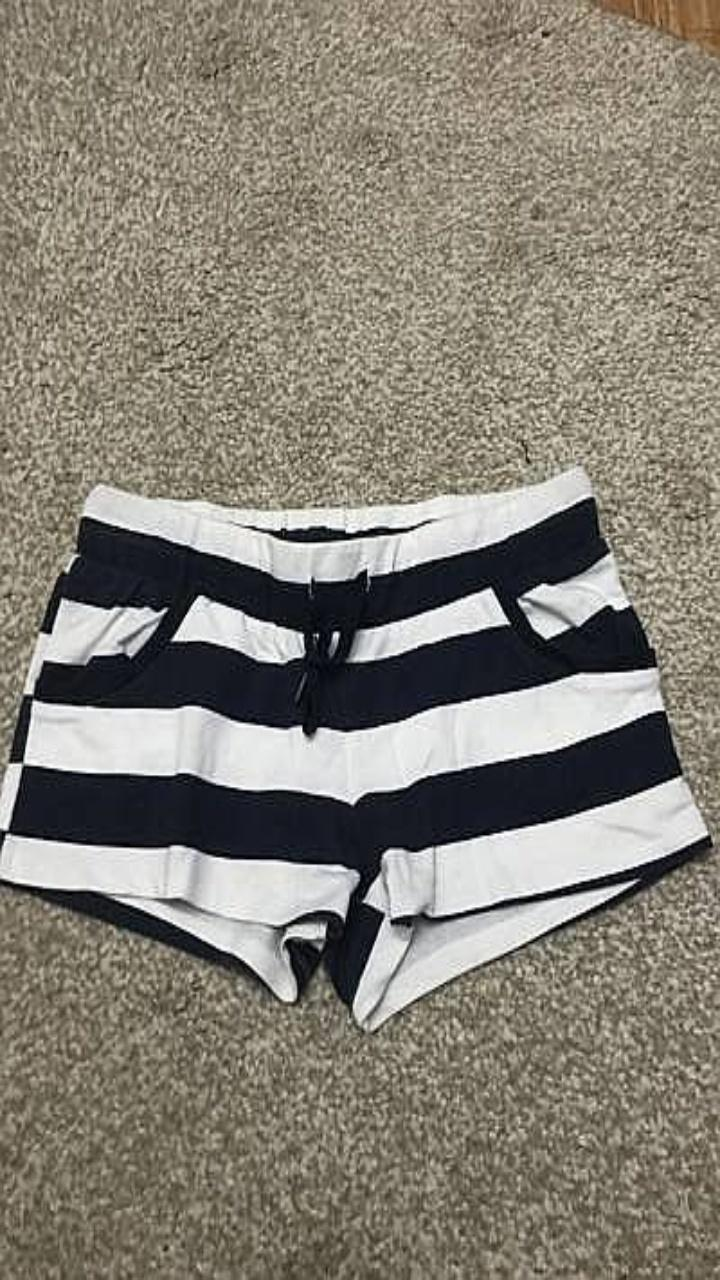Shorts: (0, 466, 711, 1030)
